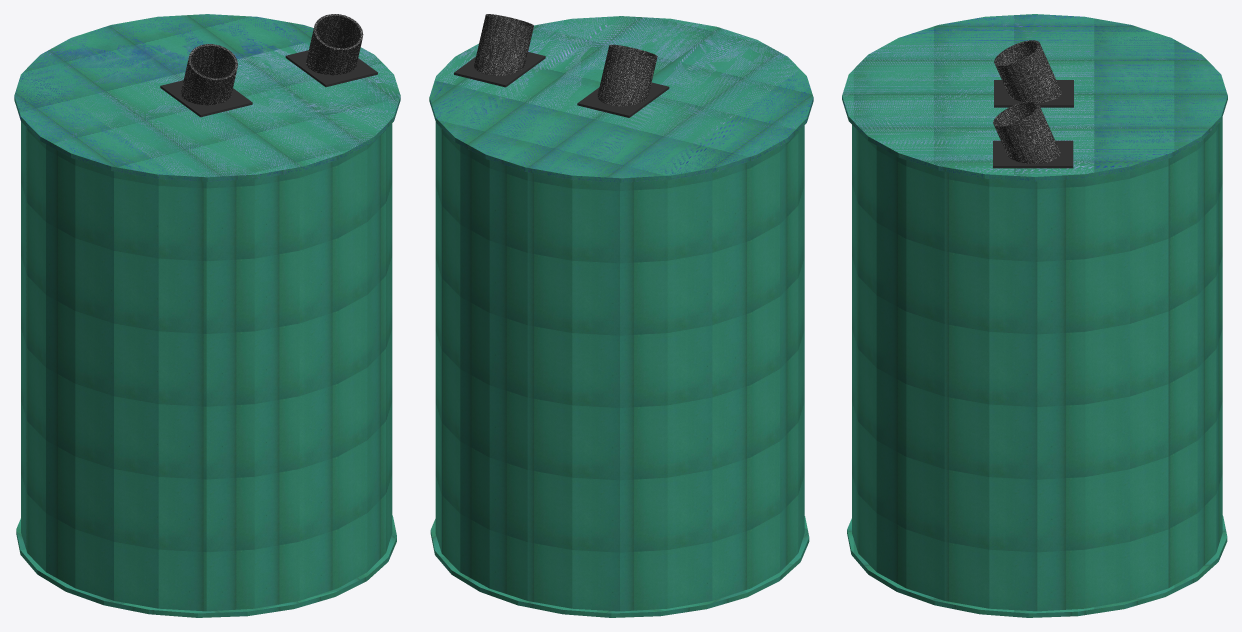
3 views of the same model, side by side, from view 1: azimuth 30°, elevation 25°; view 2: azimuth 150°, elevation 25°; view 3: azimuth 270°, elevation 25° (orthographic).
Parts seen in each view (by area): view 1: mesh11.001_mesh11-geometry, mesh12.001_mesh12-geometry, mesh10.001_mesh10-geometry, mesh5.001_mesh5-geometry, mesh6.001_mesh6-geometry, mesh1.001_mesh1-geometry; view 2: mesh11.001_mesh11-geometry, mesh12.001_mesh12-geometry, mesh10.001_mesh10-geometry, mesh5.001_mesh5-geometry, mesh6.001_mesh6-geometry, mesh1.001_mesh1-geometry; view 3: mesh11.001_mesh11-geometry, mesh12.001_mesh12-geometry, mesh5.001_mesh5-geometry, mesh10.001_mesh10-geometry, mesh1.001_mesh1-geometry, mesh6.001_mesh6-geometry.
Part boxes in pixels (x1,y1,x2,y2): mesh11.001_mesh11-geometry: [16, 122, 396, 617]; mesh12.001_mesh12-geometry: [14, 14, 400, 181]; mesh10.001_mesh10-geometry: [180, 44, 237, 105]; mesh5.001_mesh5-geometry: [306, 14, 363, 75]; mesh6.001_mesh6-geometry: [160, 80, 252, 117]; mesh1.001_mesh1-geometry: [285, 50, 377, 86]; mesh11.001_mesh11-geometry: [430, 122, 809, 617]; mesh12.001_mesh12-geometry: [429, 16, 813, 182]; mesh10.001_mesh10-geometry: [597, 44, 657, 106]; mesh5.001_mesh5-geometry: [474, 14, 533, 75]; mesh6.001_mesh6-geometry: [577, 82, 669, 117]; mesh1.001_mesh1-geometry: [454, 52, 545, 87]; mesh11.001_mesh11-geometry: [847, 117, 1227, 617]; mesh12.001_mesh12-geometry: [842, 14, 1227, 181]; mesh5.001_mesh5-geometry: [993, 101, 1060, 163]; mesh10.001_mesh10-geometry: [994, 40, 1061, 102]; mesh1.001_mesh1-geometry: [993, 140, 1073, 168]; mesh6.001_mesh6-geometry: [994, 80, 1073, 107].
Size of the model in its own units: 0.5015 by 0.705 by 0.5015.
